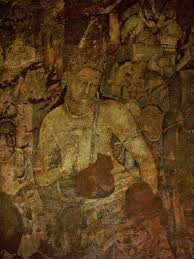Bodhisatva Padampani: (17, 18, 178, 253)
